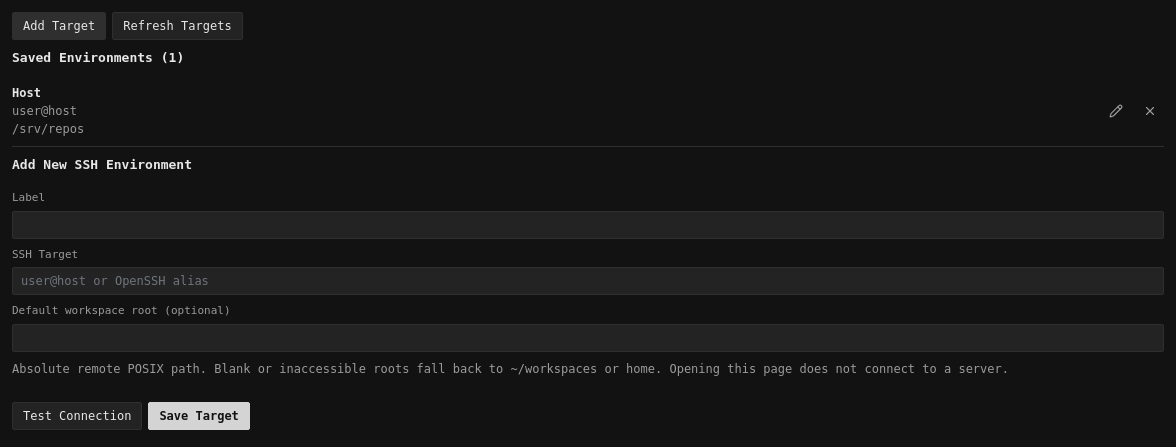
it: canonical SSH Targets › places saved targets before the editor and focuses the exact selected target for editing
Expected: the heading "Saved Environments (1)" is shown, [12, 50, 184, 65]
What coordinates should you click on to do the following:
click the button named "Edit Host"
I would click on:
 (1116, 110)
Its box is [1102, 96, 1130, 124].
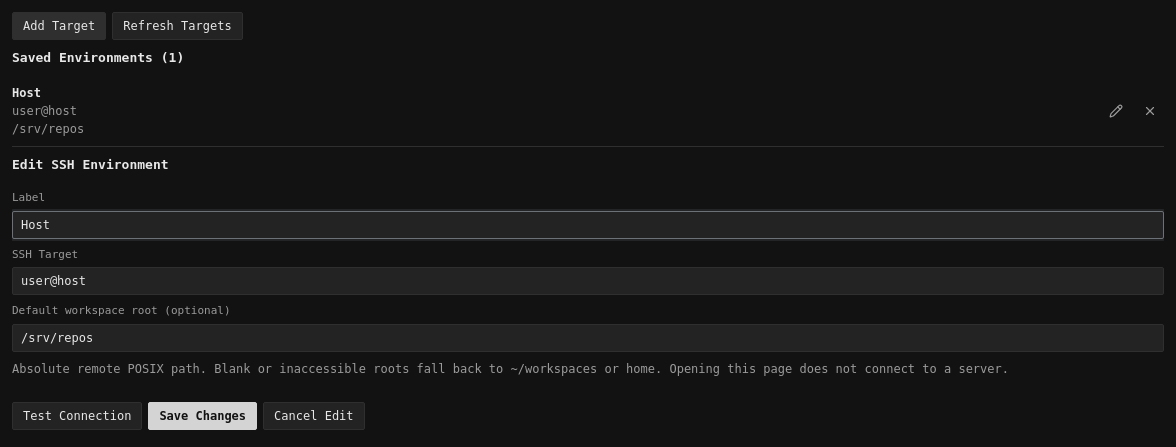
Now the field labelled "Label" holds "Host", box [12, 210, 1164, 238]
